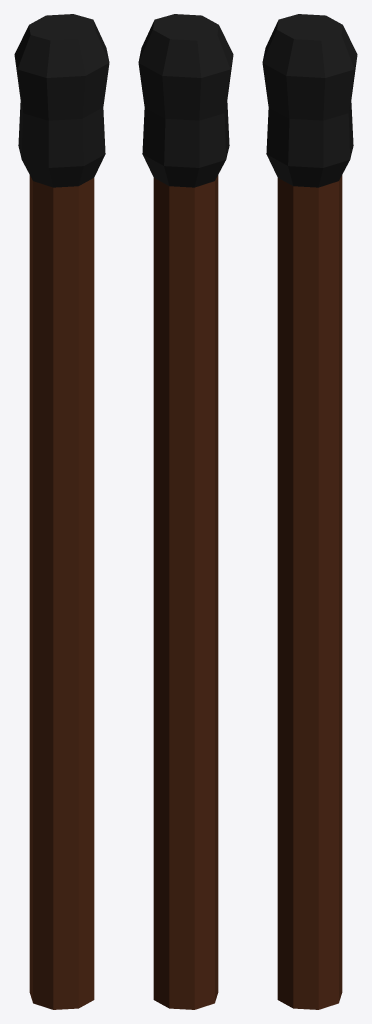
Rendered from antorcha.fbx.
3 views of the same model, side by side, from view 1: azimuth 30°, elevation 25°; view 2: azimuth 150°, elevation 25°; view 3: azimuth 330°, elevation 25° (orthographic).
Visible parts, largest first — view 1: Cylinder; view 2: Cylinder; view 3: Cylinder.
Boxes of the visible parts, box(x1,y1,x2,y2) form: Cylinder: box(14, 14, 109, 1009); Cylinder: box(138, 14, 233, 1009); Cylinder: box(262, 14, 357, 1009).
Size of the model in its own units: 49.27 by 513 by 45.3.
